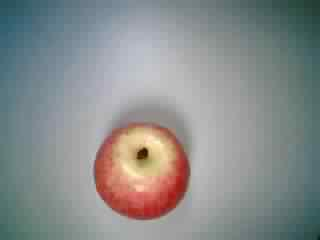apple: (89, 121, 194, 223)
